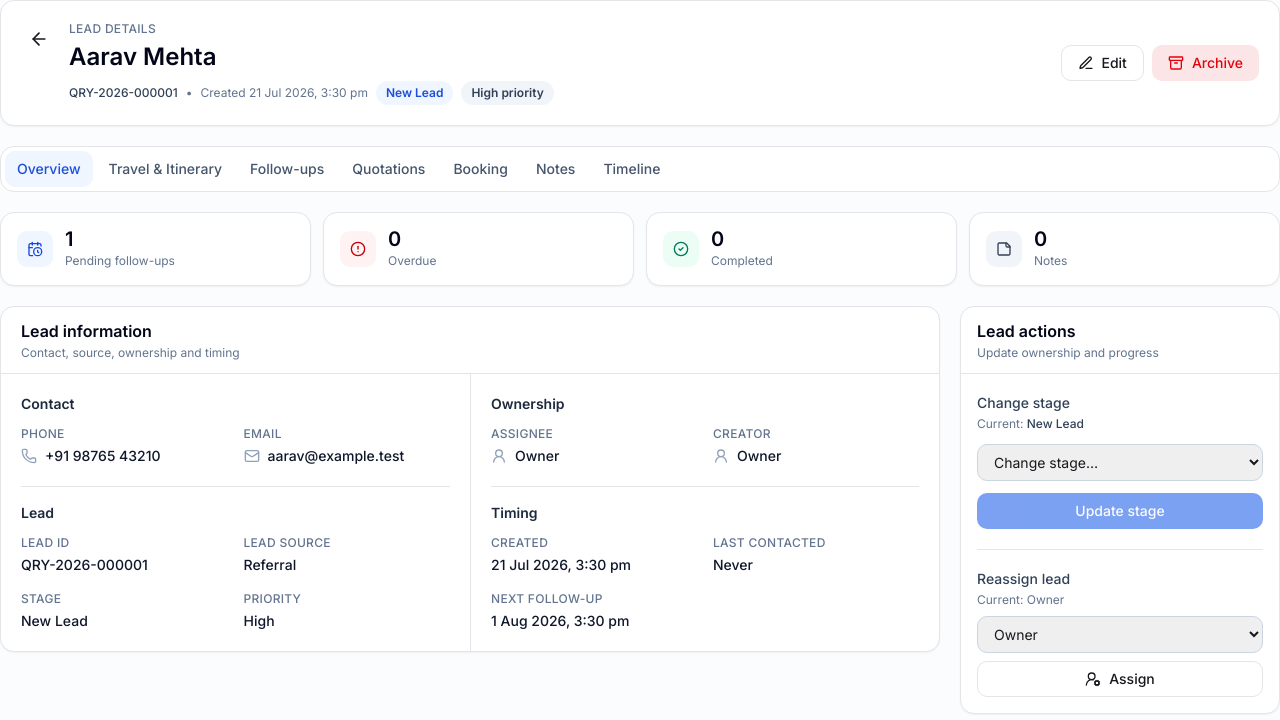
Scenario: Phase 17 lead workspace tabs › shows the quotations tab with a convert-to-booking action
The width and height of the screenshot is (1280, 720).
expect the heading "Aarav Mehta" is shown: met, box left=69, top=42, right=216, bottom=71
Click the button "Quotations". click: (389, 169)
box: left=340, top=151, right=437, bottom=187
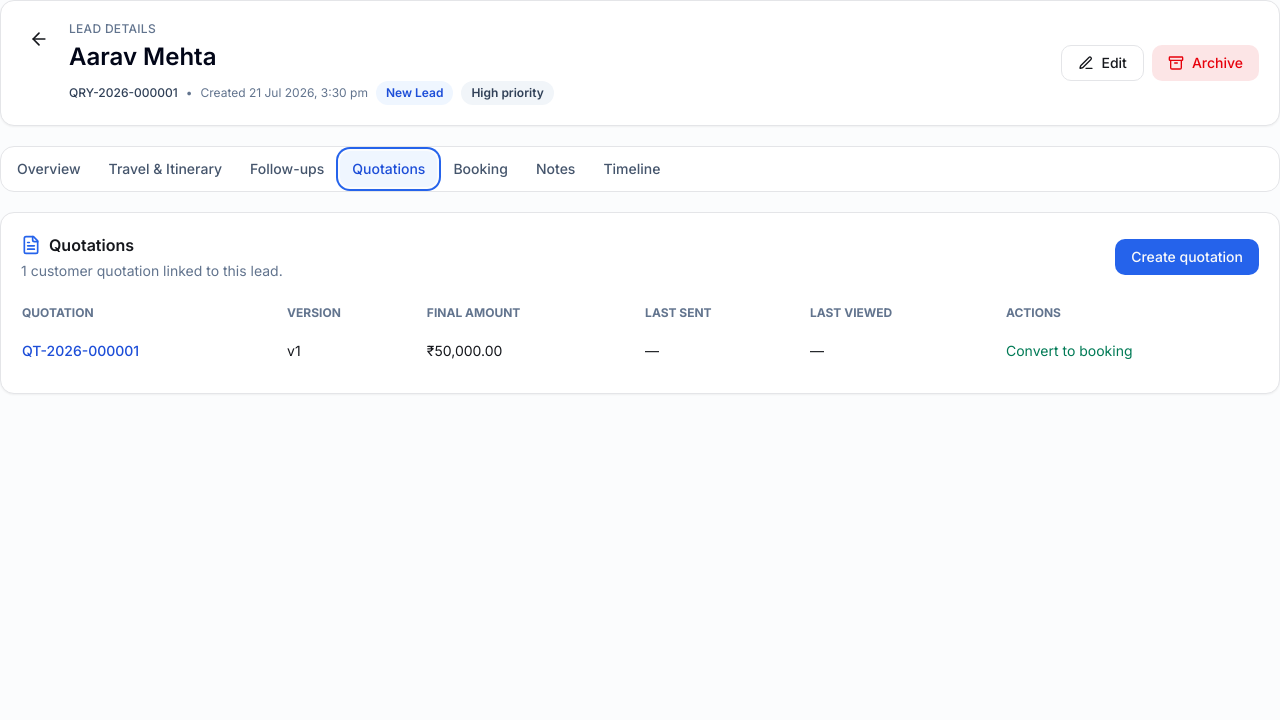
expect the link "QT-2026-000001" is shown: met, box left=22, top=342, right=139, bottom=359
